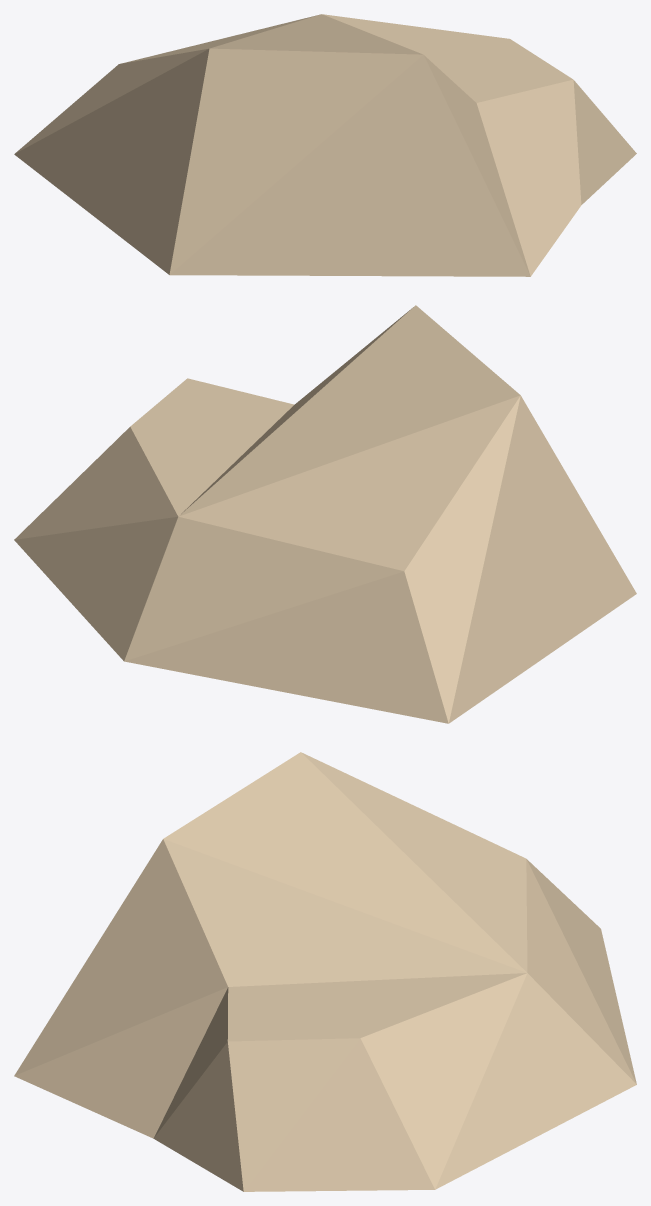
File: SM_Env_Pebble_05.fbx
3 renders of one model, top to bottom at view 1: azimuth 30°, elevation 25°; view 2: azimuth 150°, elevation 25°; view 3: azimuth 270°, elevation 25°, orthographic. The views are drawn at different scales.
Parts seen in each view (by area): view 1: SM_Env_Pebble_05; view 2: SM_Env_Pebble_05; view 3: SM_Env_Pebble_05.
Boxes of the visible parts, box(x1,y1,x2,y2) form: SM_Env_Pebble_05: box(14, 14, 636, 276); SM_Env_Pebble_05: box(14, 305, 636, 723); SM_Env_Pebble_05: box(14, 752, 636, 1191).
Bounding box in the file's own units: 0.00095 × 0.000354 × 0.000936.
Materials: 1 (1 with a texture image).
